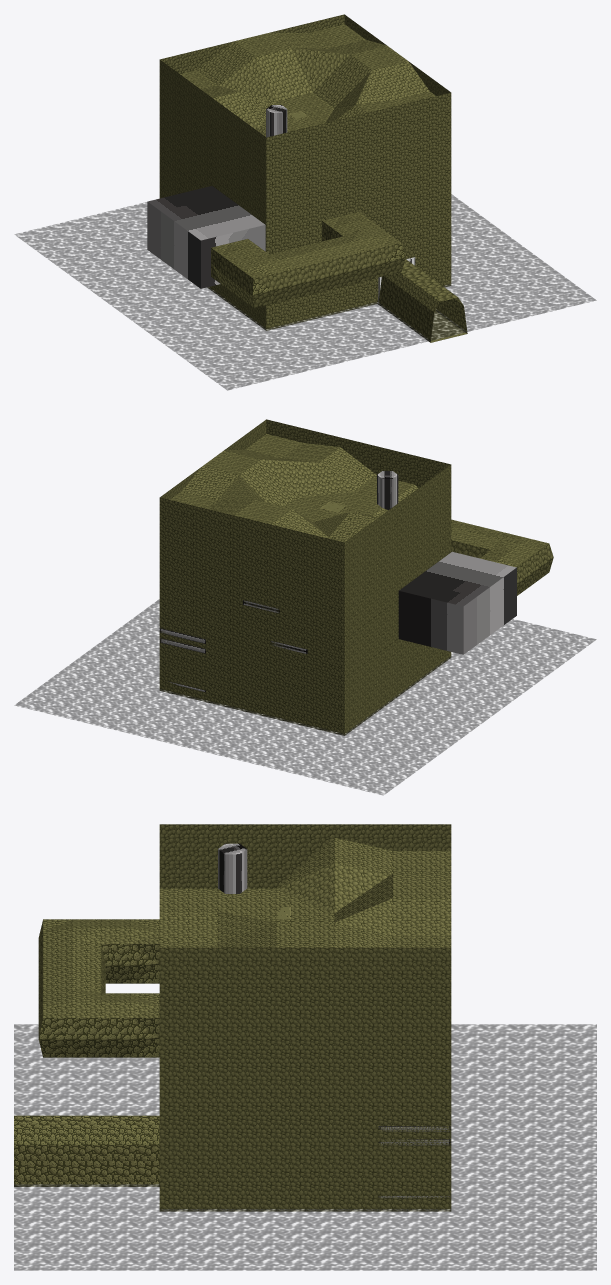
File: cavern.dae
3 renders of one model, top to bottom at view 1: azimuth 30°, elevation 25°; view 2: azimuth 150°, elevation 25°; view 3: azimuth 270°, elevation 25°, orthographic. The views are drawn at different scales.
Parts seen in each view (by area): view 1: Plane.032, Plane.007, Plane.016, Plane.006, Cube.001, Cube, Plane.003, Plane.002, Plane.004, Plane.005, Circle.009, Plane.034; view 2: Plane.032, Plane.004, Plane.006, Plane.016, Cube, Cube.001, Plane.007, Plane.005, Circle.009; view 3: Plane.005, Plane.032, Plane.016, Cube.001, Plane.006, Plane.002, Circle.009.
Boxes of the visible parts, bbox=[...] form: Plane.032: bbox=[14, 194, 596, 390]; Plane.007: bbox=[266, 92, 451, 330]; Plane.016: bbox=[180, 24, 435, 136]; Plane.006: bbox=[159, 60, 266, 330]; Cube.001: bbox=[211, 211, 405, 307]; Cube: bbox=[147, 186, 265, 288]; Plane.003: bbox=[359, 189, 451, 308]; Plane.002: bbox=[377, 259, 467, 342]; Plane.004: bbox=[160, 14, 344, 73]; Plane.005: bbox=[344, 15, 450, 95]; Circle.009: bbox=[266, 105, 287, 137]; Plane.034: bbox=[430, 311, 466, 342]; Plane.032: bbox=[14, 599, 596, 795]; Plane.004: bbox=[159, 497, 344, 735]; Plane.006: bbox=[344, 465, 451, 735]; Plane.016: bbox=[170, 434, 418, 542]; Cube: bbox=[398, 551, 516, 654]; Cube.001: bbox=[451, 519, 553, 595]; Plane.007: bbox=[266, 419, 450, 487]; Plane.005: bbox=[160, 420, 266, 499]; Circle.009: bbox=[377, 471, 398, 510]; Plane.005: bbox=[159, 947, 451, 1211]; Plane.032: bbox=[14, 1024, 596, 1270]; Plane.016: bbox=[159, 837, 451, 947]; Cube.001: bbox=[38, 919, 159, 1057]; Plane.006: bbox=[159, 824, 451, 888]; Plane.002: bbox=[14, 1115, 159, 1186]; Circle.009: bbox=[218, 843, 247, 893].
Bounding box in the file's own units: 40 × 40 × 20.
11 materials, 11 textured.
